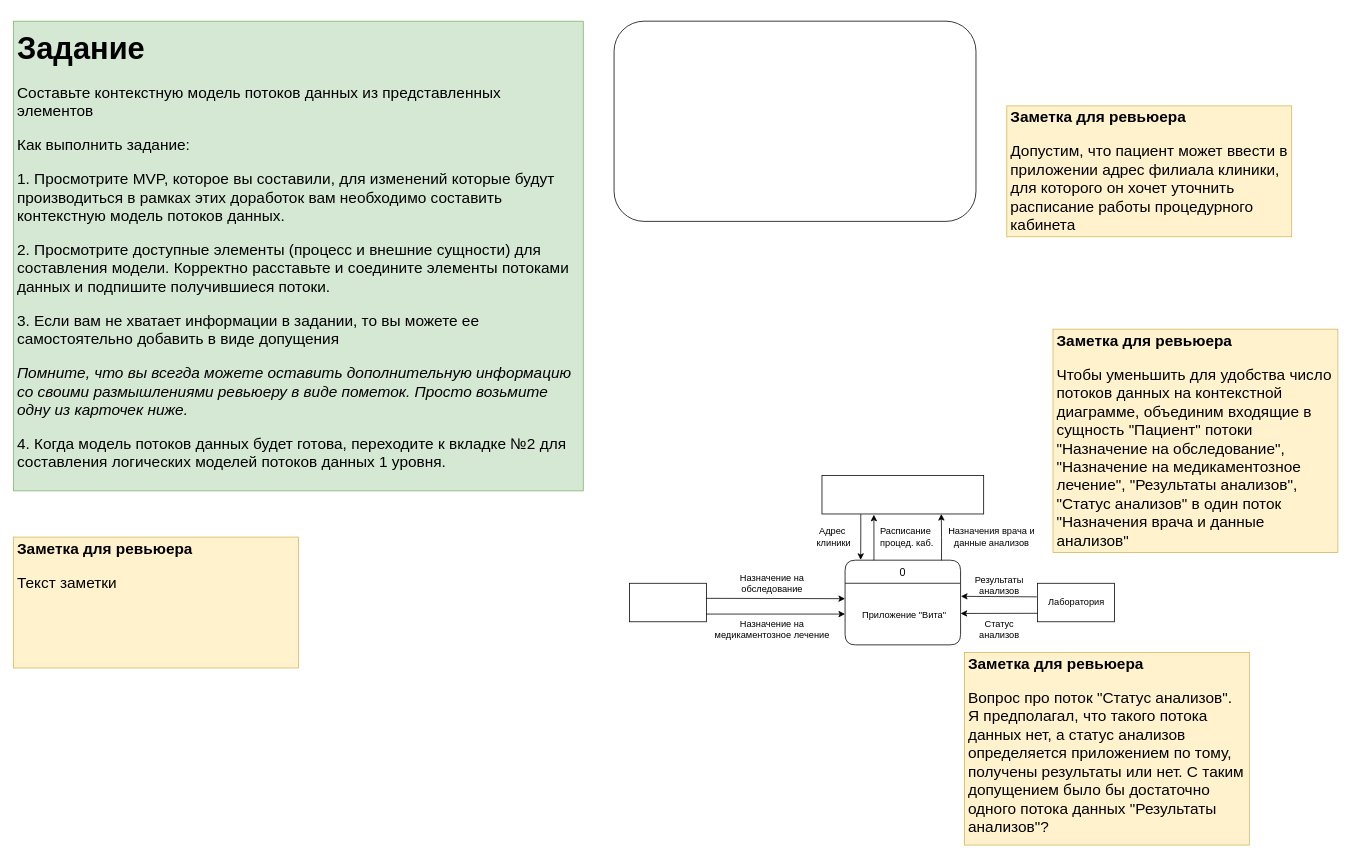
The diagram is 1351 pixels wide and 859 high, and some of its shapes have lost their labels. Here are the shapes that lost their labels. From the top down, the centre of each, then its label:
At [794,120]: "Элементы для построения контекстной модели потоков данных".
At [902,494]: "Пациент".
At [667,602]: "Врач".
